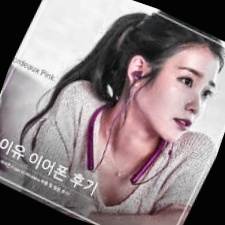earphone: (119, 51, 154, 92)
